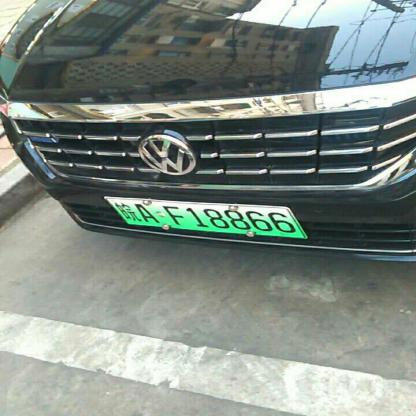lp: (105, 198, 305, 238)
